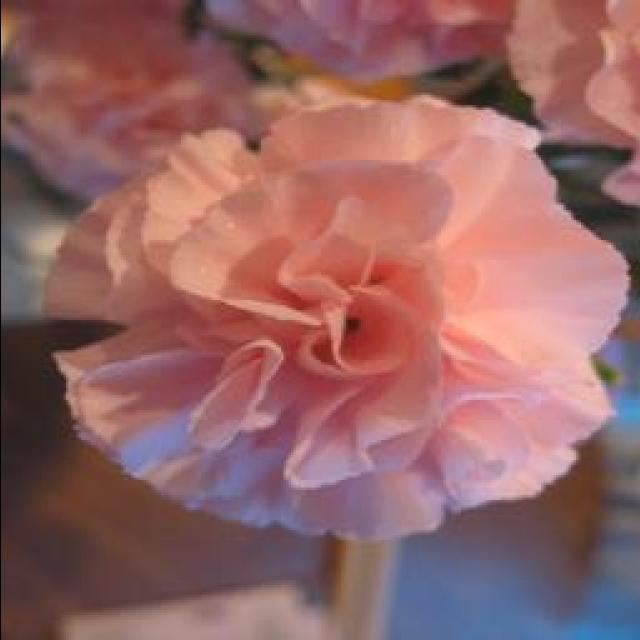carnation: (49, 90, 632, 560)
